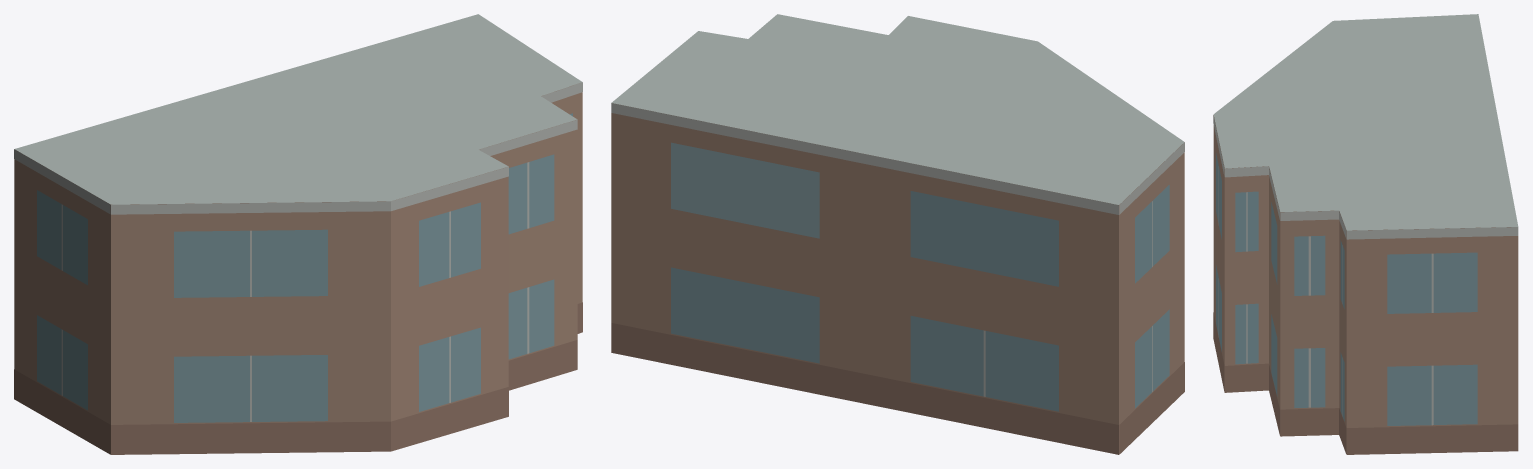
The model's file is survey-upis-32751342.glb.
3 renders of one model, left to right at view 1: azimuth 30°, elevation 25°; view 2: azimuth 150°, elevation 25°; view 3: azimuth 270°, elevation 25°, orthographic. The views are drawn at different scales.
Parts seen in each view (by area): view 1: survey-upis-32751342.tmp; view 2: survey-upis-32751342.tmp; view 3: survey-upis-32751342.tmp.
Boxes of the visible parts, box(x1,y1,x2,y2) form: survey-upis-32751342.tmp: box(14, 14, 582, 454); survey-upis-32751342.tmp: box(611, 14, 1184, 454); survey-upis-32751342.tmp: box(1213, 14, 1518, 454).
Bounding box in the file's own units: 12.64 × 6.1 × 7.53.
